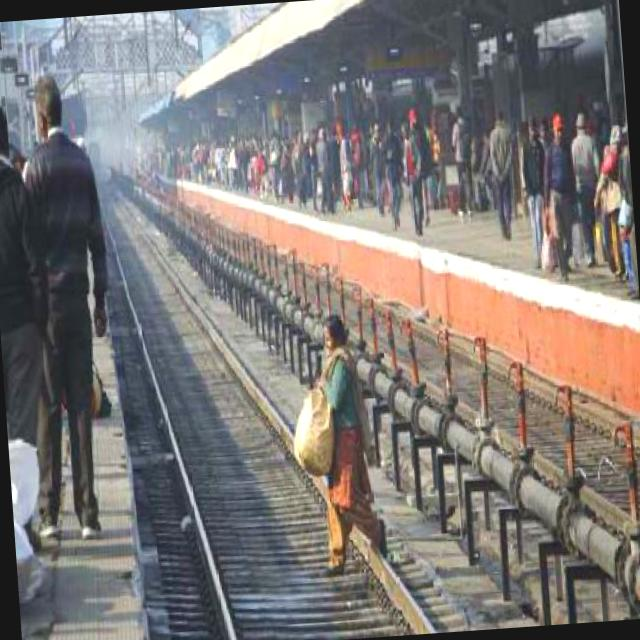Person: (296, 306, 390, 576)
